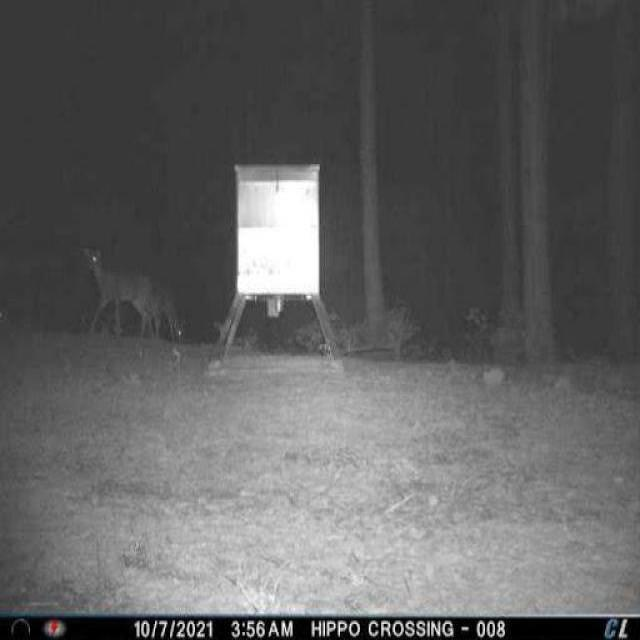deer: (76, 238, 180, 357)
